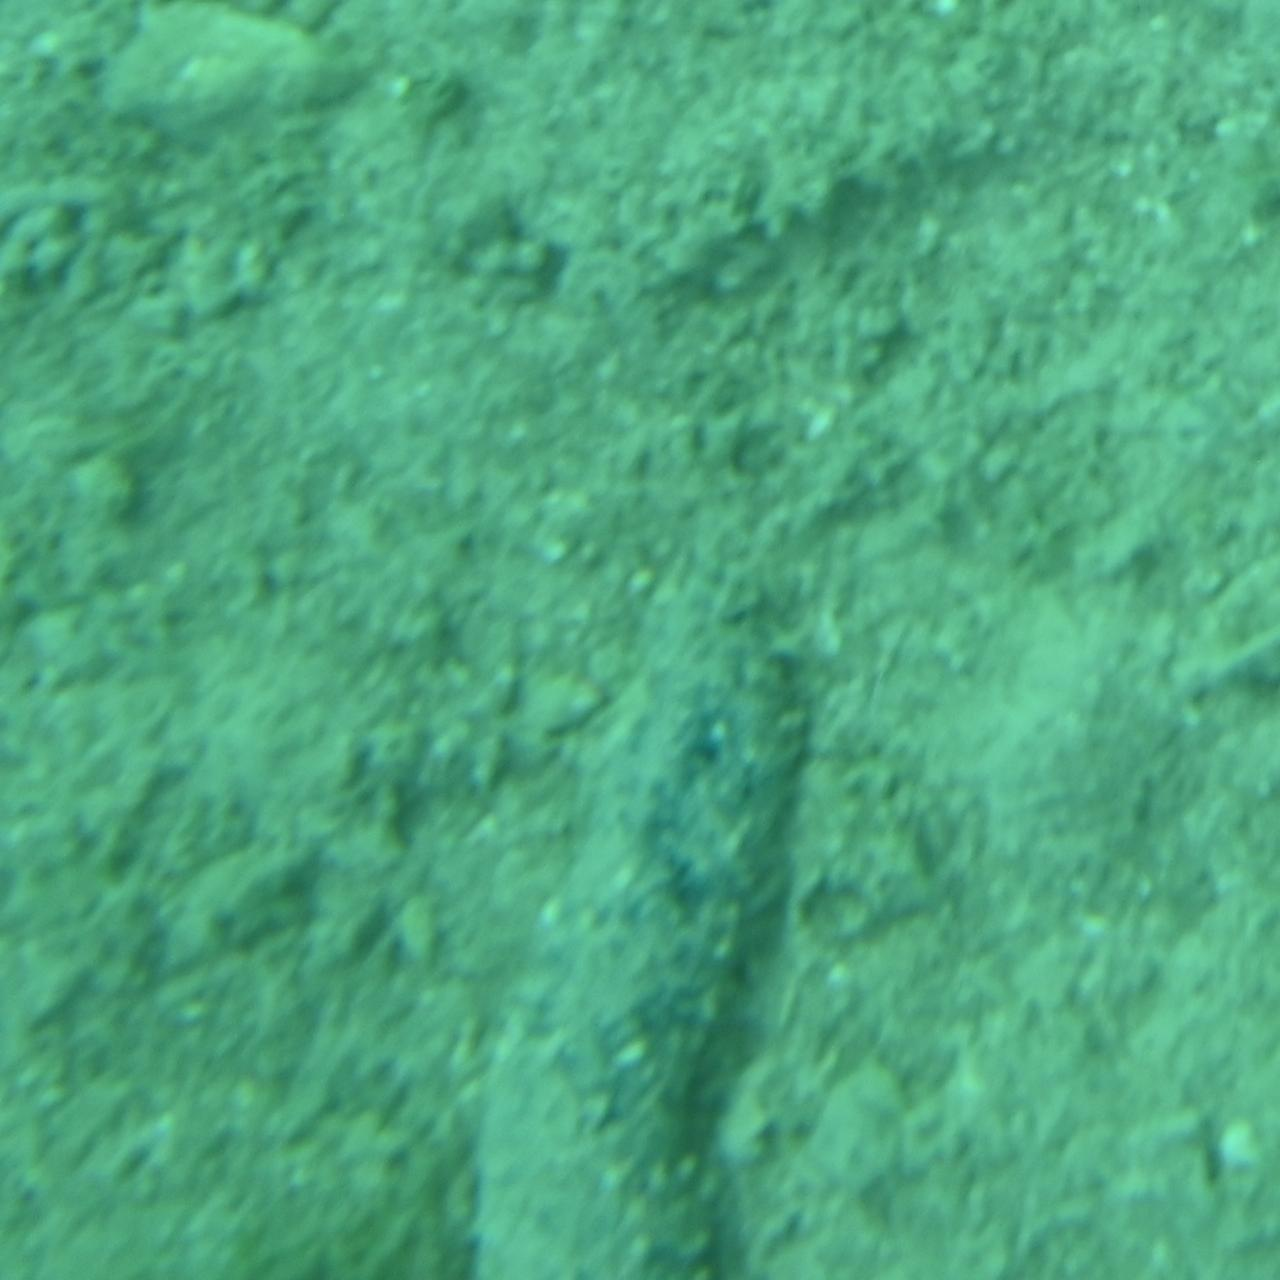Holothuria tubulosa: (463, 514, 817, 1278)
